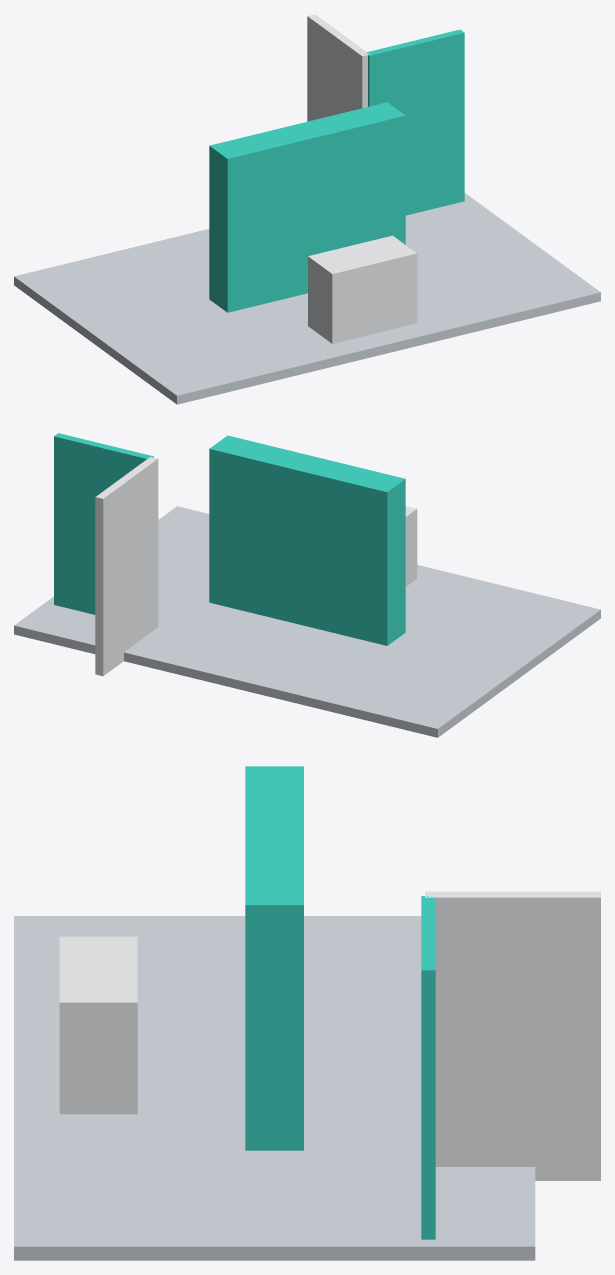
The picture shows the model from 3 angles, top to bottom: view 1: azimuth 30°, elevation 25°; view 2: azimuth 150°, elevation 25°; view 3: azimuth 270°, elevation 25°; orthographic projection. The views are drawn at different scales.
Parts seen in each view (by area): view 1: Exhibition Booth Concept; view 2: Exhibition Booth Concept; view 3: Exhibition Booth Concept.
Boxes of the visible parts, box(x1,y1,x2,y2) form: Exhibition Booth Concept: box(14, 14, 600, 404); Exhibition Booth Concept: box(14, 433, 600, 737); Exhibition Booth Concept: box(14, 766, 600, 1260).
Bounding box in the file's own units: 6 × 2.4 × 4.51.
